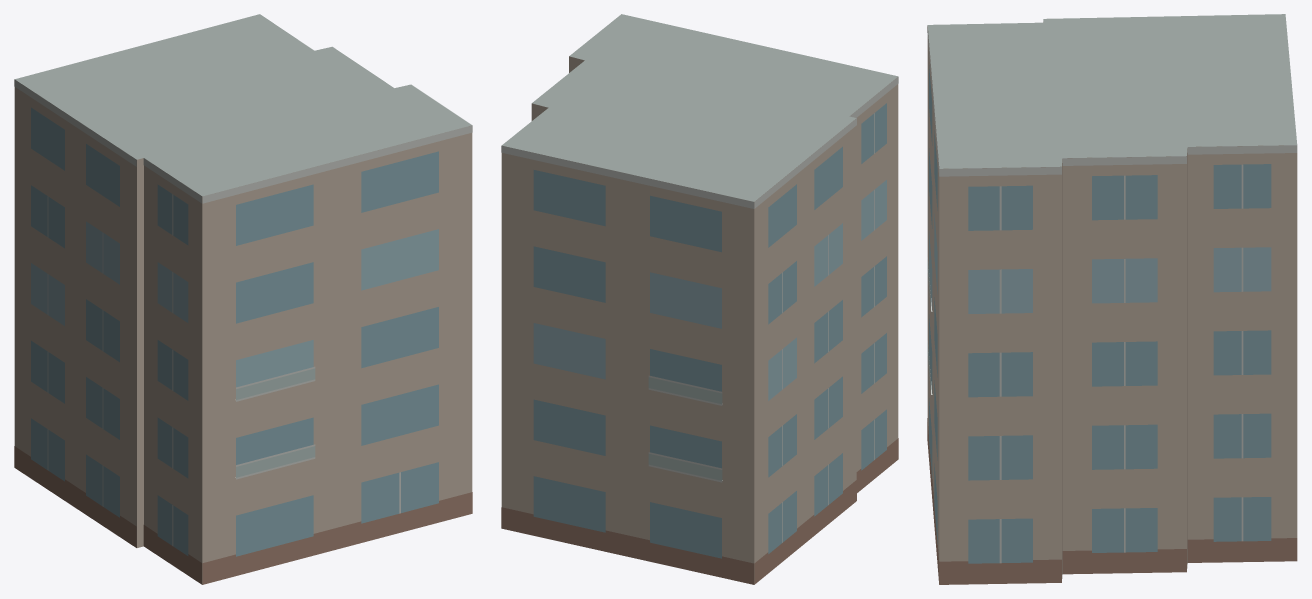
The model's file is survey-upis-32627290.glb.
3 renders of one model, left to right at view 1: azimuth 30°, elevation 25°; view 2: azimuth 150°, elevation 25°; view 3: azimuth 270°, elevation 25°, orthographic. The views are drawn at different scales.
Visible parts, largest first — view 1: survey-upis-32627290.tmp; view 2: survey-upis-32627290.tmp; view 3: survey-upis-32627290.tmp.
Part boxes in pixels (box(x1,y1,x2,y2)): survey-upis-32627290.tmp: box(14, 14, 472, 584); survey-upis-32627290.tmp: box(501, 14, 898, 584); survey-upis-32627290.tmp: box(927, 14, 1297, 584).
Size of the model in its own units: 10.39 by 13 by 10.48.
